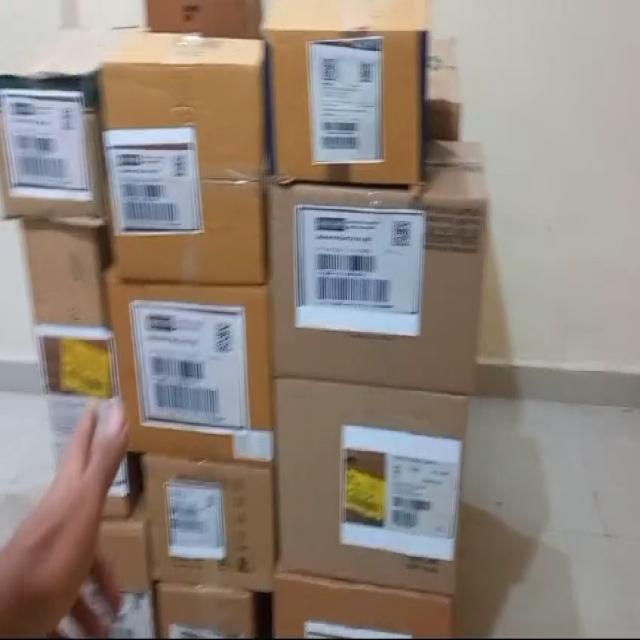BoxFace: (268, 182, 489, 387), (271, 372, 470, 598), (98, 61, 264, 283), (105, 270, 270, 469), (18, 225, 124, 522), (266, 16, 433, 184), (143, 456, 278, 584), (0, 75, 104, 230)
